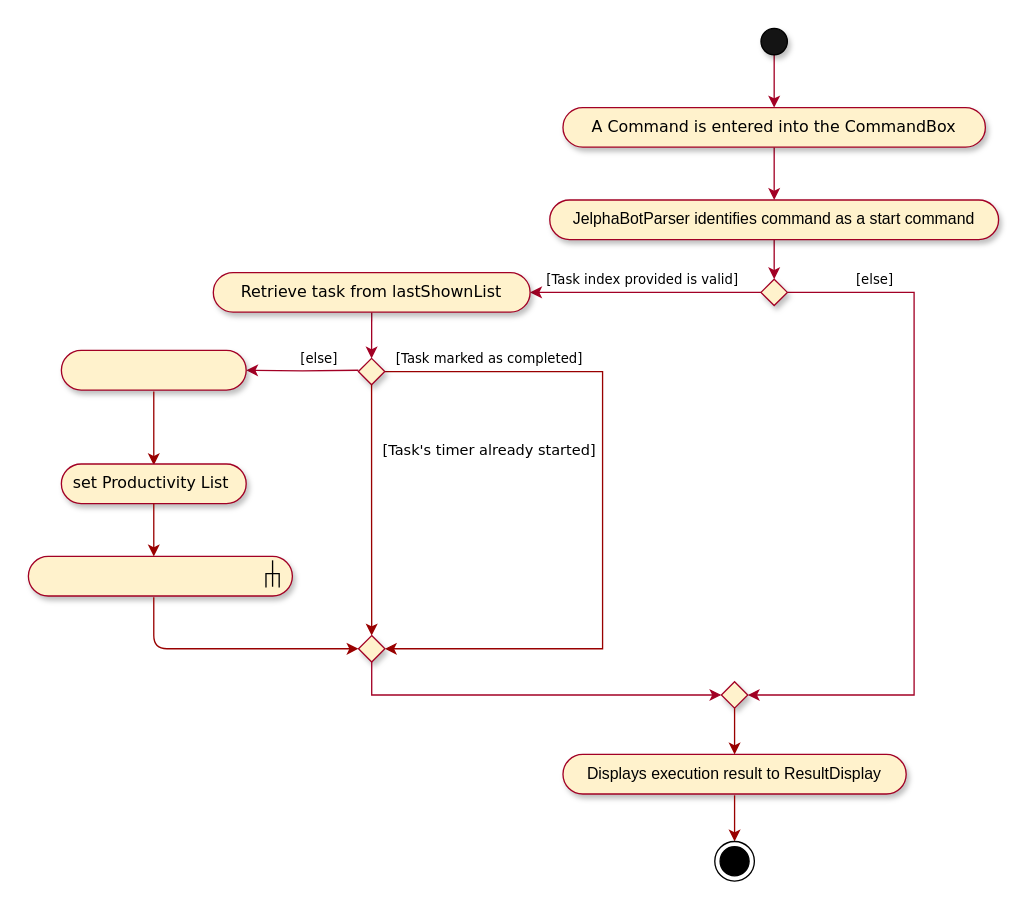
Image size: 1030x904. Some labels were removed from this diagram. The shapes that lost their labels are listed below. From the top down, each one's centre as x and y in pixels, then its label:
At (154,371): "Start timer for task".
At (161,577): "Update productivity panel".
